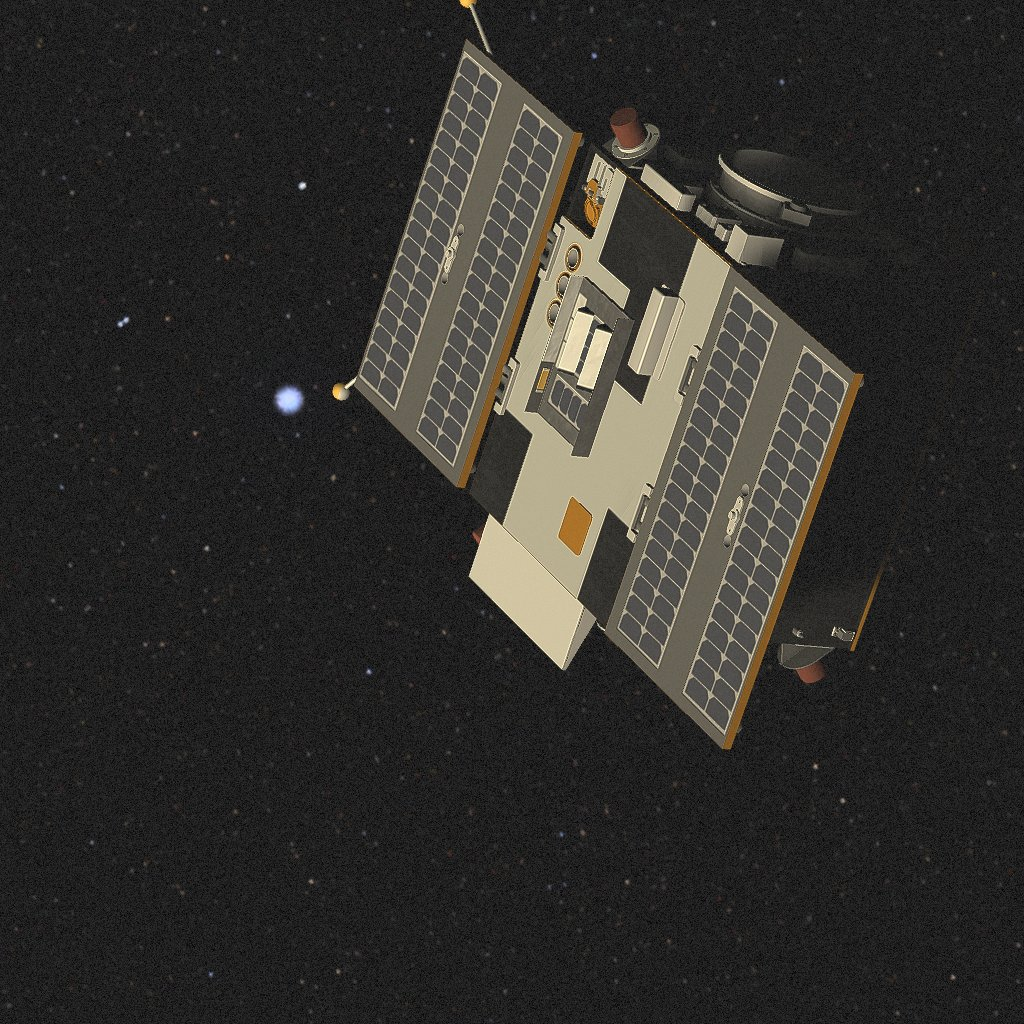proba_2: (333, 0, 984, 749)
